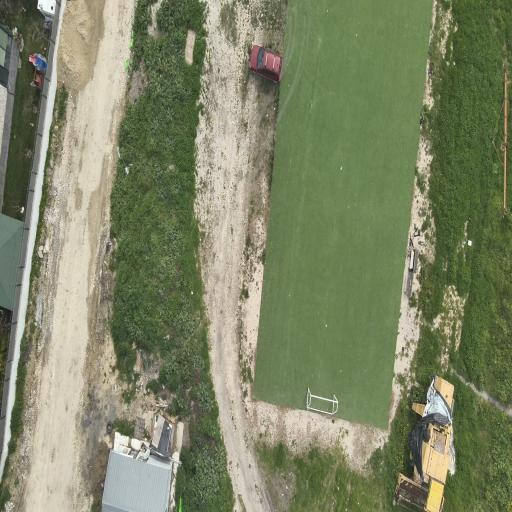car: (250, 46, 282, 82)
harvester: (395, 376, 454, 511)
